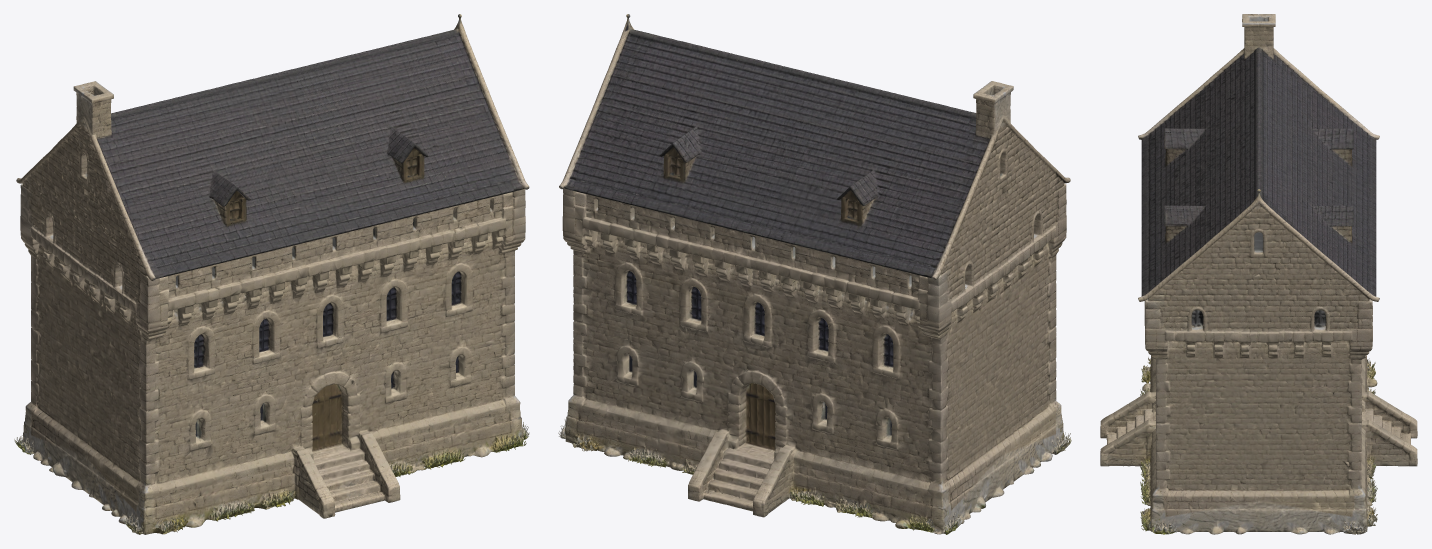
The model's file is keep_stonehall.glb.
3 views of the same model, side by side, from view 1: azimuth 30°, elevation 25°; view 2: azimuth 150°, elevation 25°; view 3: azimuth 270°, elevation 25° (orthographic). The views are drawn at different scales.
Parts seen in each view (by area): view 1: keep_stonehall; view 2: keep_stonehall; view 3: keep_stonehall.
Boxes of the visible parts, x1=… form: keep_stonehall: x1=14, y1=14, x2=529, y2=534; keep_stonehall: x1=558, y1=14, x2=1071, y2=534; keep_stonehall: x1=1100, y1=14, x2=1417, y2=534.
Size of the model in its own units: 1.9 by 1.82 by 1.48.
Materials: 1 (1 with a texture image).
